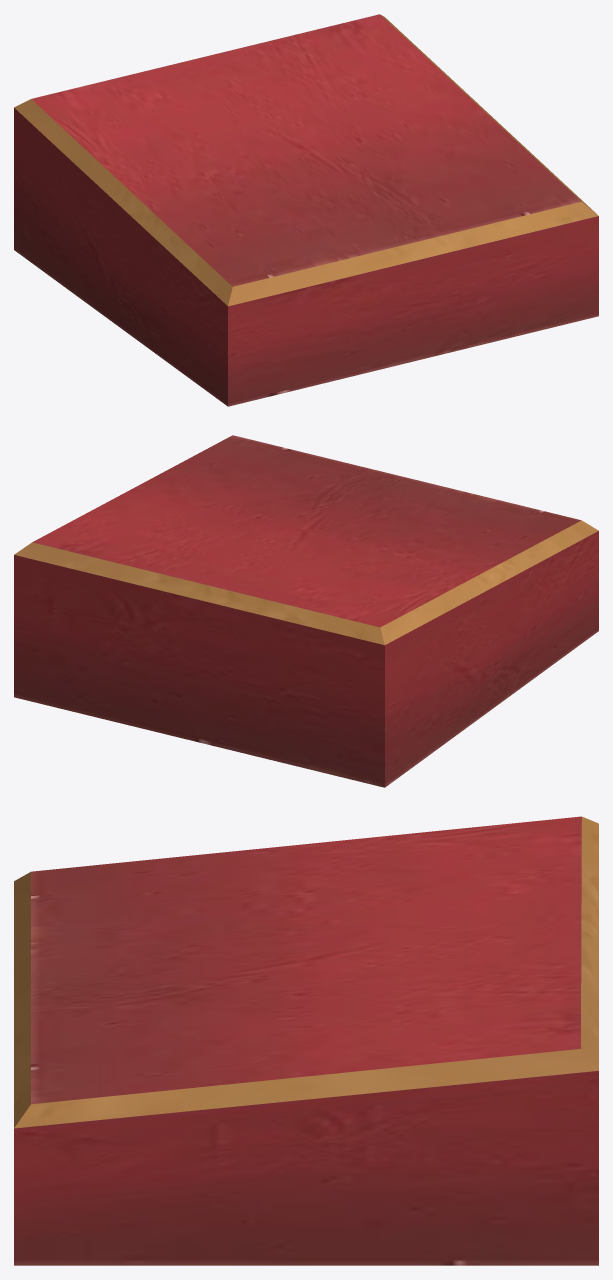
Rendered from pm-cushion.glb.
The picture shows the model from 3 angles, top to bottom: view 1: azimuth 30°, elevation 25°; view 2: azimuth 150°, elevation 25°; view 3: azimuth 270°, elevation 25°; orthographic projection. The views are drawn at different scales.
Parts seen in each view (by area): view 1: Cushion; view 2: Cushion; view 3: Cushion.
Boxes of the visible parts, box(x1,y1,x2,y2) form: Cushion: box(14, 14, 598, 406); Cushion: box(14, 435, 598, 787); Cushion: box(14, 816, 598, 1265).
Bounding box in the file's own units: 0.3756 × 0.1481 × 0.3756.
Materials: 2 (2 with a texture image).
